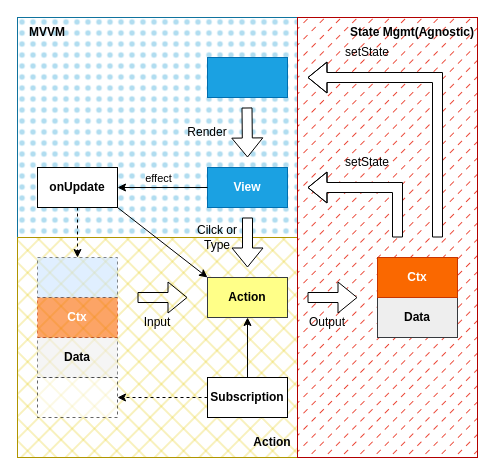
This 495x475 diagram has some shape labels left out. Each missing label, with the centre of its shape:
"EventData" belongs at point 77,397.
"Parent" belongs at point 247,77.
"Props" belongs at point 77,277.
